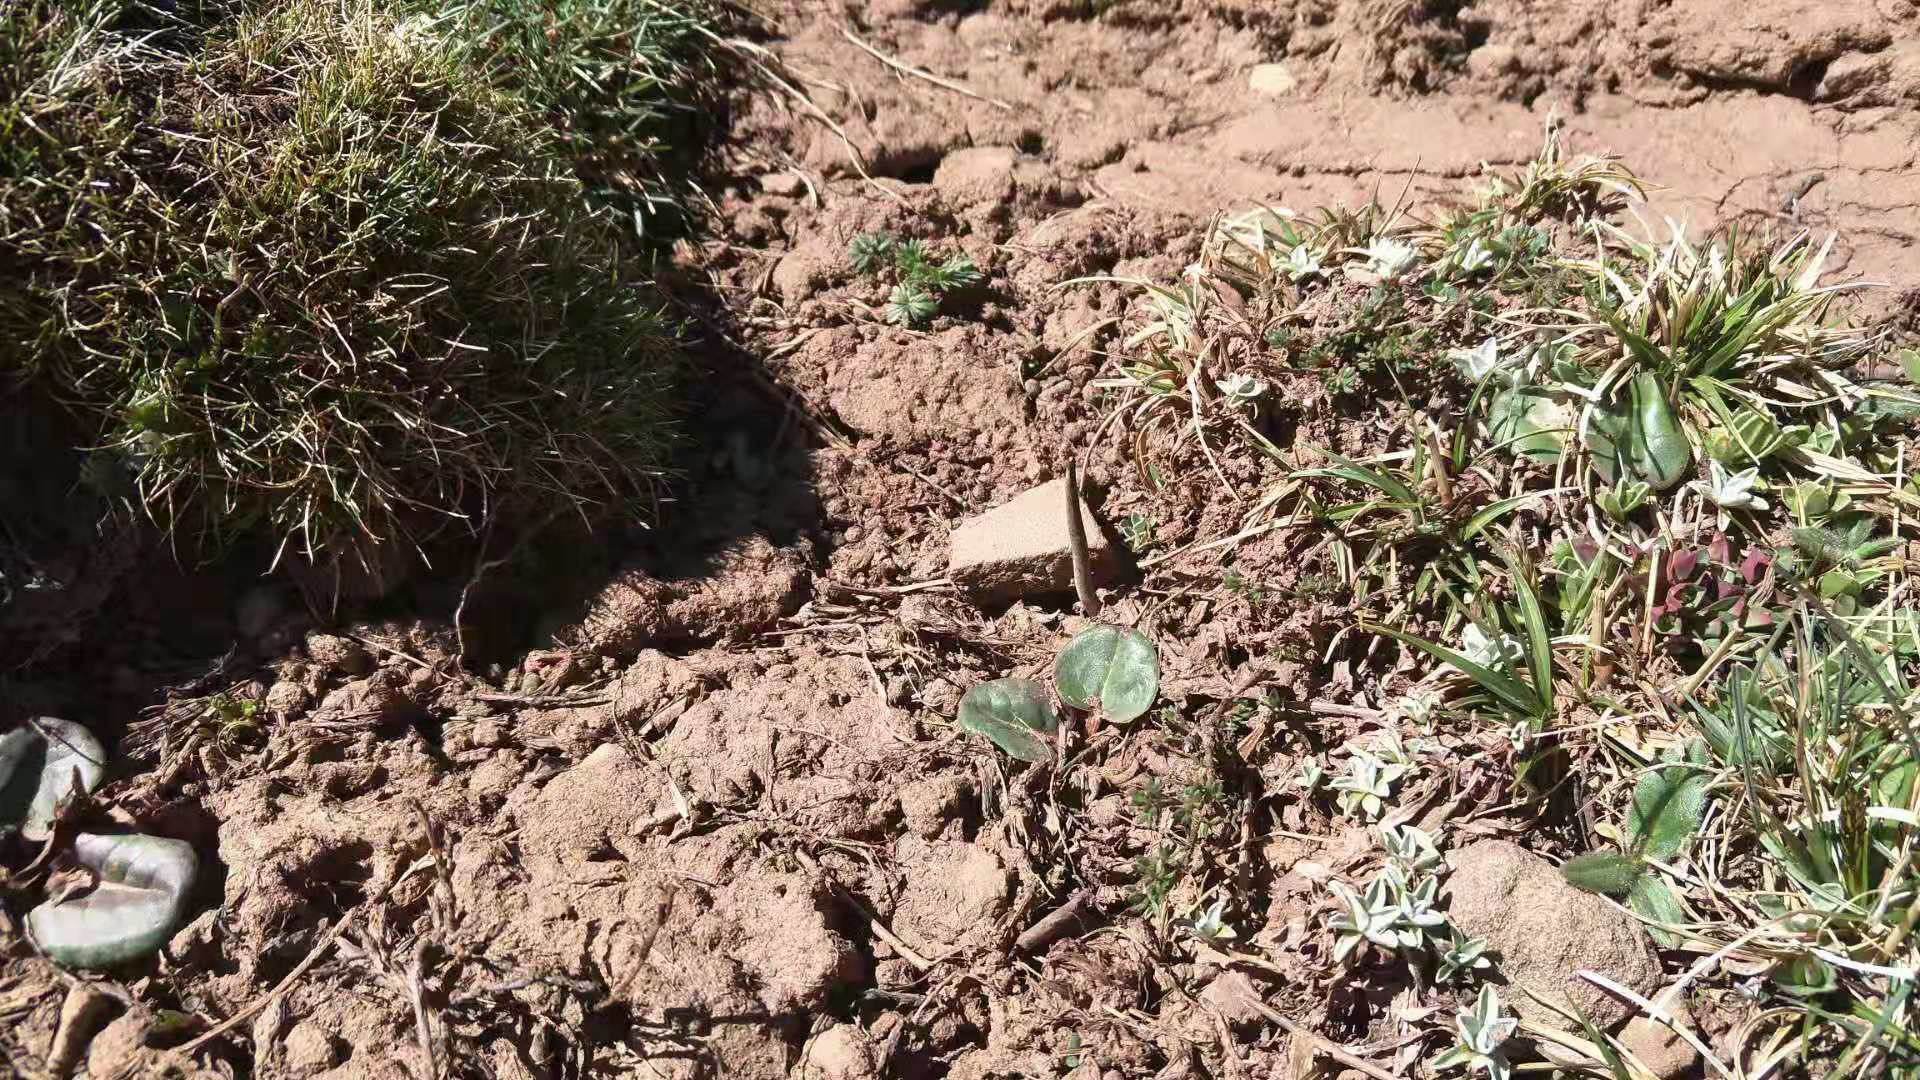cpf: (1059, 452, 1101, 621)
